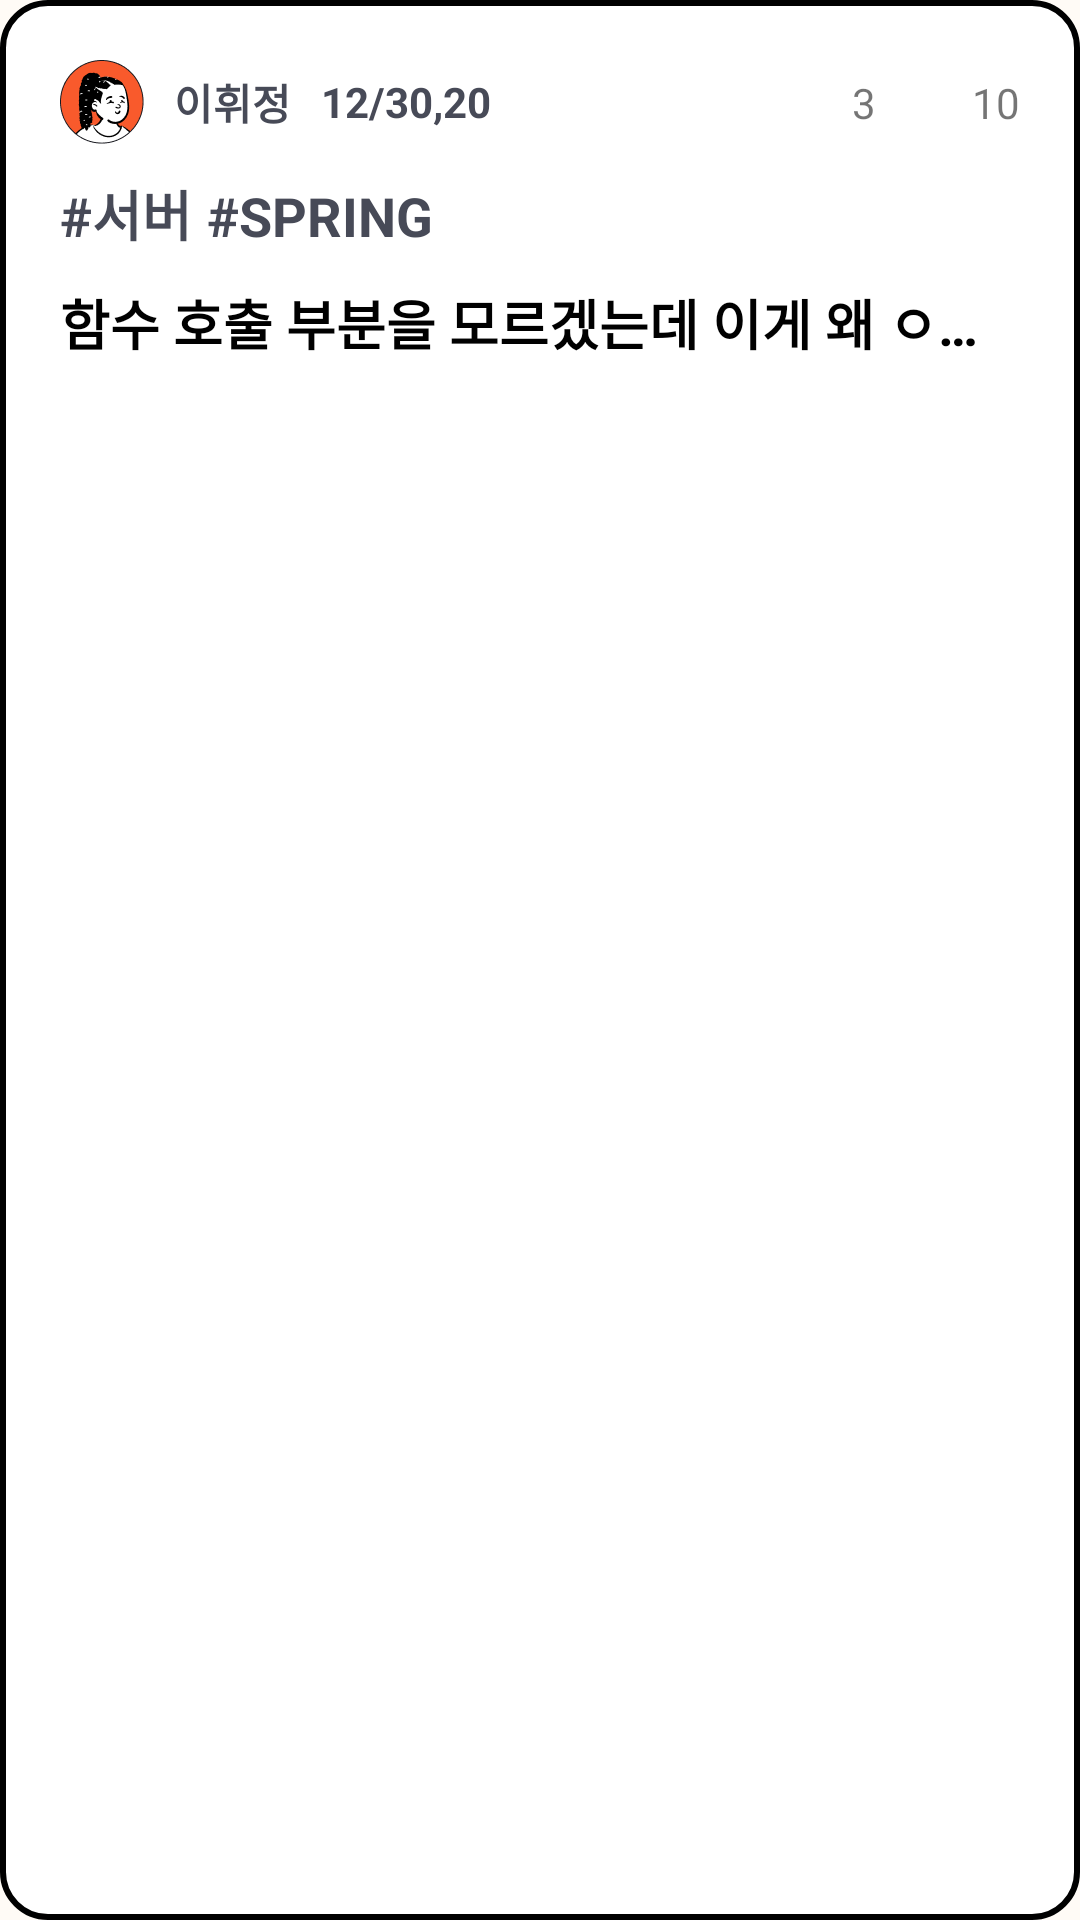

Where to tap for icons on this 1080w x 1920h app screen, as (x=x, y=y):
profile: (x=102, y=102)
